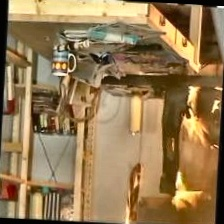fire: (160, 89, 222, 224)
